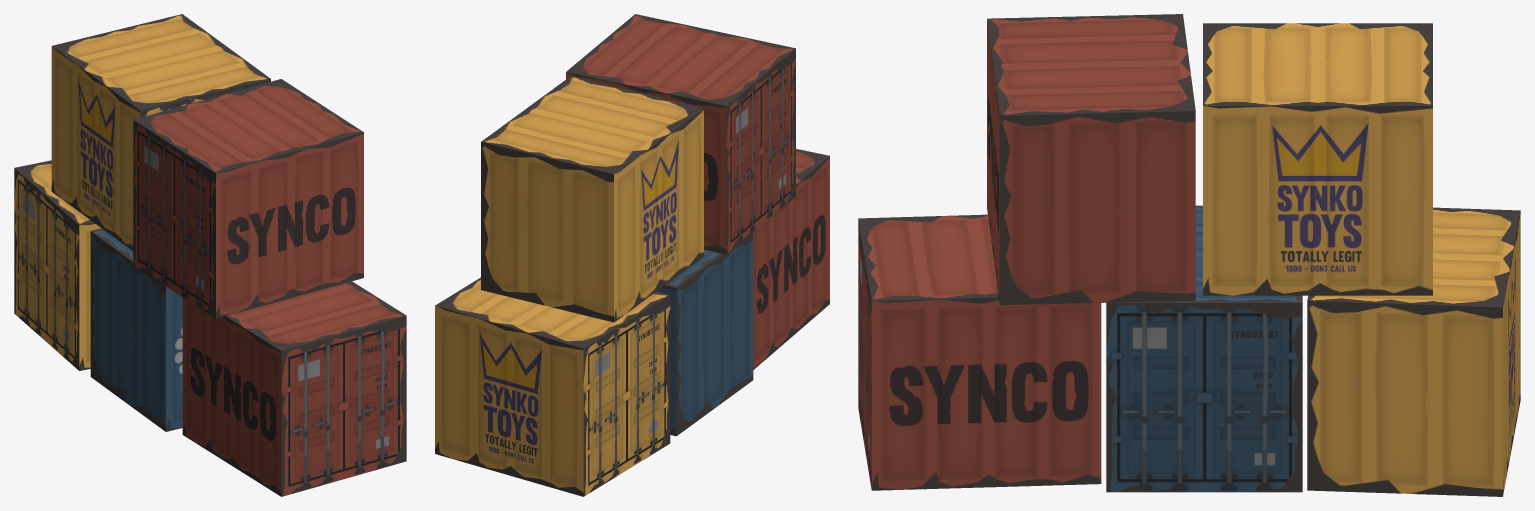
The model's file is SM_Prop_Container_Small_Stack_01.fbx.
3 renders of one model, left to right at view 1: azimuth 30°, elevation 25°; view 2: azimuth 150°, elevation 25°; view 3: azimuth 270°, elevation 25°, orthographic. The views are drawn at different scales.
Visible parts, largest first — view 1: SM_Prop_Container_Small_Stack_01; view 2: SM_Prop_Container_Small_Stack_01; view 3: SM_Prop_Container_Small_Stack_01.
Part boxes in pixels (x1,y1,x2,y2): SM_Prop_Container_Small_Stack_01: (14, 14, 406, 496); SM_Prop_Container_Small_Stack_01: (435, 14, 829, 496); SM_Prop_Container_Small_Stack_01: (858, 14, 1520, 496).
Size of the model in its own units: 304 by 518 by 820.
